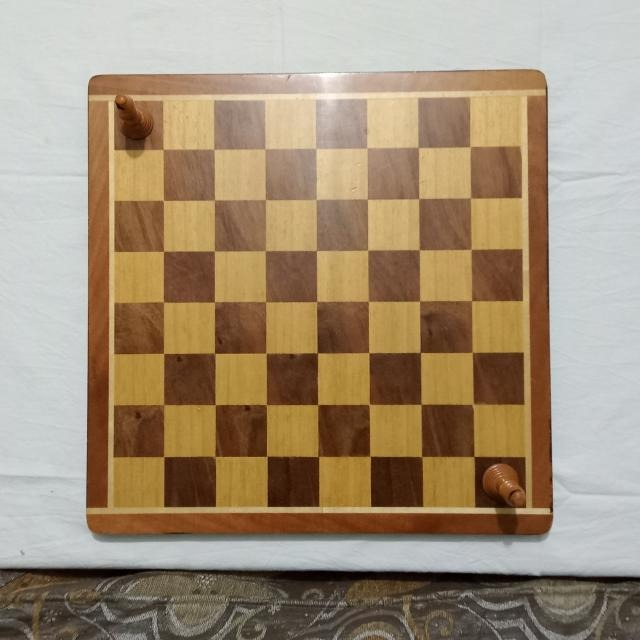white-bishop: (112, 92, 156, 143), (481, 461, 527, 508)
